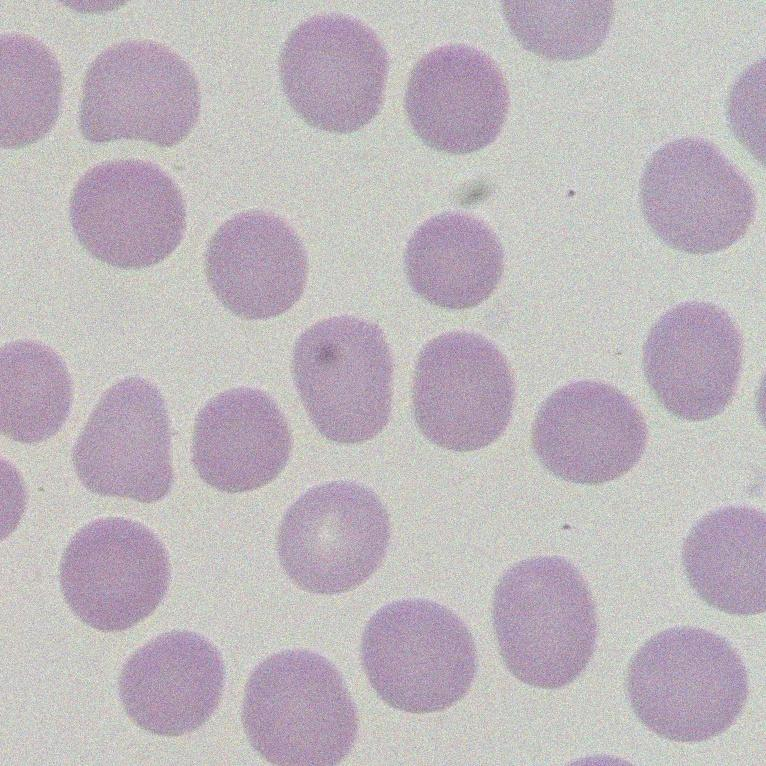Uninfected: (636, 131, 754, 254), (630, 623, 749, 740), (242, 649, 357, 766), (276, 13, 387, 134), (498, 553, 595, 691), (70, 159, 187, 272), (290, 317, 393, 445), (58, 517, 174, 630), (364, 599, 477, 715), (68, 381, 177, 501), (76, 41, 198, 148), (642, 297, 745, 422), (274, 485, 391, 592), (402, 41, 509, 156), (120, 625, 227, 740), (534, 379, 649, 485), (412, 327, 509, 452), (204, 209, 310, 318), (190, 385, 290, 490), (678, 501, 766, 618), (402, 211, 507, 306), (0, 343, 71, 446)
